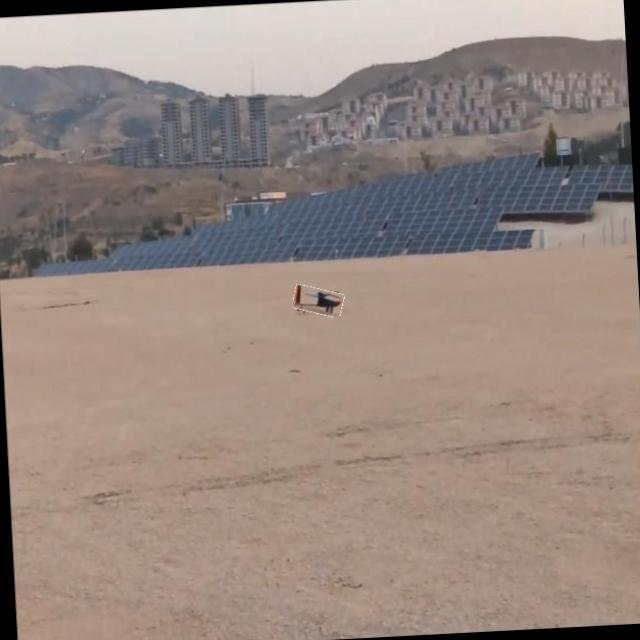UAV: (253, 272, 361, 352)
